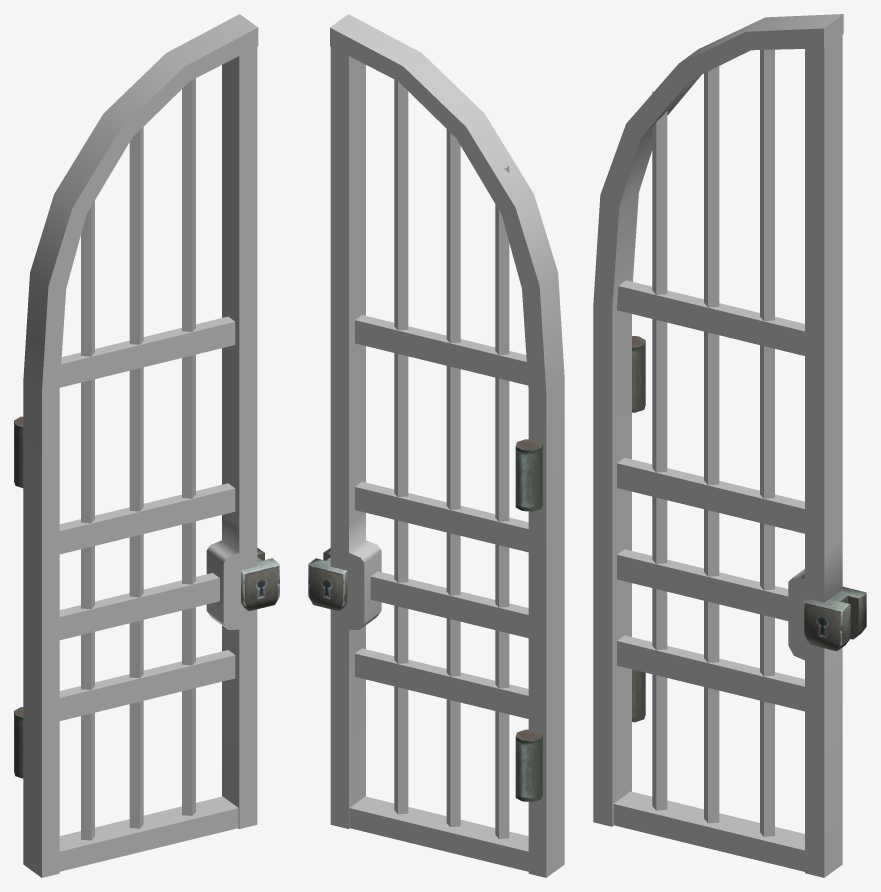
File: Metal_Door_Right.FBX
The picture shows the model from 3 angles, left to right: view 1: azimuth 30°, elevation 25°; view 2: azimuth 150°, elevation 25°; view 3: azimuth 330°, elevation 25°; orthographic projection. The views are drawn at different scales.
Visible parts, largest first — view 1: Metal_Door_Right; view 2: Metal_Door_Right; view 3: Metal_Door_Right.
Boxes of the visible parts, x1,y1,x2,y2 form: Metal_Door_Right: [14, 14, 279, 877]; Metal_Door_Right: [308, 14, 564, 877]; Metal_Door_Right: [593, 14, 866, 877].
Size of the model in its own units: 149 by 37.21 by 478.
